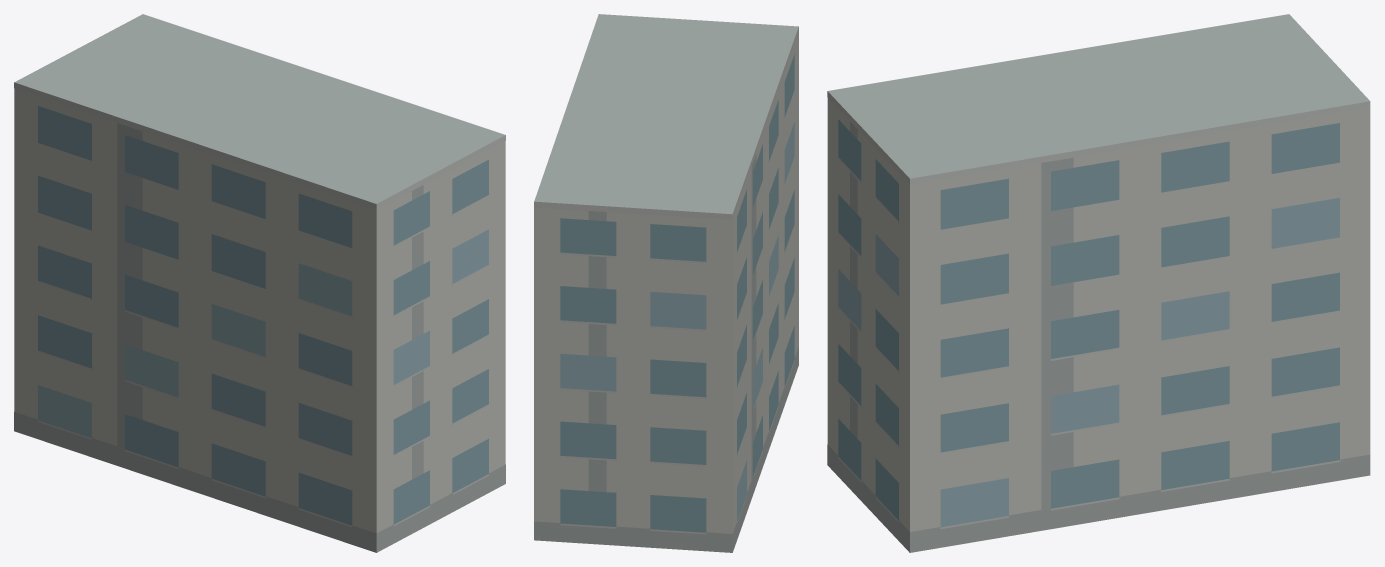
Rendered from survey-upis-32881909.glb.
3 renders of one model, left to right at view 1: azimuth 30°, elevation 25°; view 2: azimuth 150°, elevation 25°; view 3: azimuth 270°, elevation 25°, orthographic. The views are drawn at different scales.
Parts seen in each view (by area): view 1: survey-upis-32881909.tmp; view 2: survey-upis-32881909.tmp; view 3: survey-upis-32881909.tmp.
Boxes of the visible parts, x1,y1,x2,y2 form: survey-upis-32881909.tmp: (14,14,505,552); survey-upis-32881909.tmp: (534,14,798,552); survey-upis-32881909.tmp: (827,14,1370,552).
Bounding box in the file's own units: 13.51 × 14.3 × 18.81.
